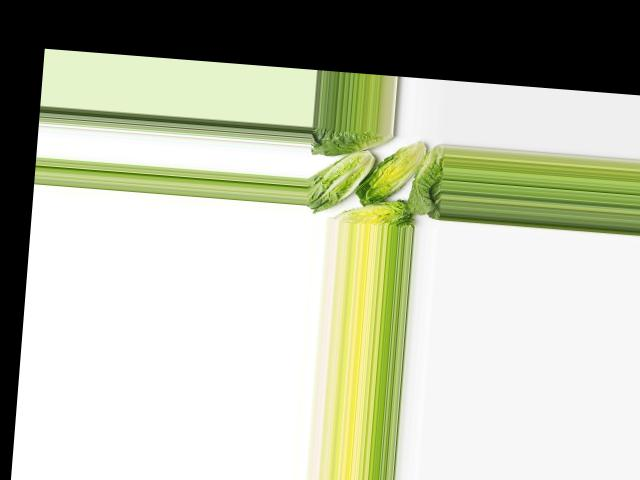lettuce: (404, 144, 446, 220)
